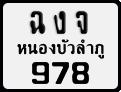letters: (30, 61, 50, 86), (71, 61, 91, 86), (29, 9, 47, 36), (51, 61, 70, 86), (75, 9, 90, 36), (52, 10, 67, 35)
province: (14, 38, 105, 60)
